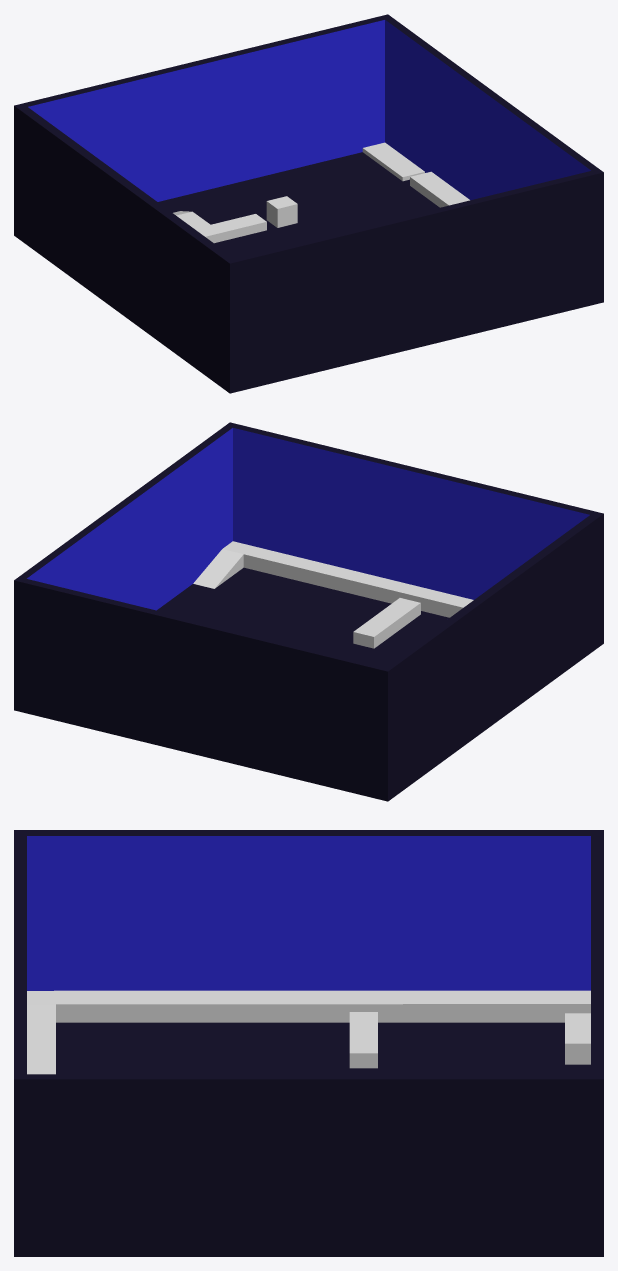
Rendered from LevelModel.fbx.
3 renders of one model, top to bottom at view 1: azimuth 30°, elevation 25°; view 2: azimuth 150°, elevation 25°; view 3: azimuth 270°, elevation 25°, orthographic. The views are drawn at different scales.
Parts seen in each view (by area): view 1: Cube; view 2: Cube; view 3: Cube.
Part boxes in pixels (x1=…): Cube: x1=14, y1=14, x2=603, y2=393; Cube: x1=14, y1=422, x2=603, y2=801; Cube: x1=14, y1=830, x2=603, y2=1256.
Bounding box in the file's own units: 13037 × 4329 × 13037.
